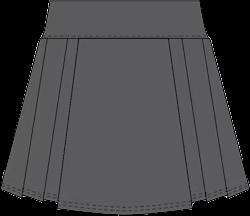Hemline: (0, 187, 249, 215)
Waistline: (40, 36, 208, 40), (49, 0, 198, 3)
